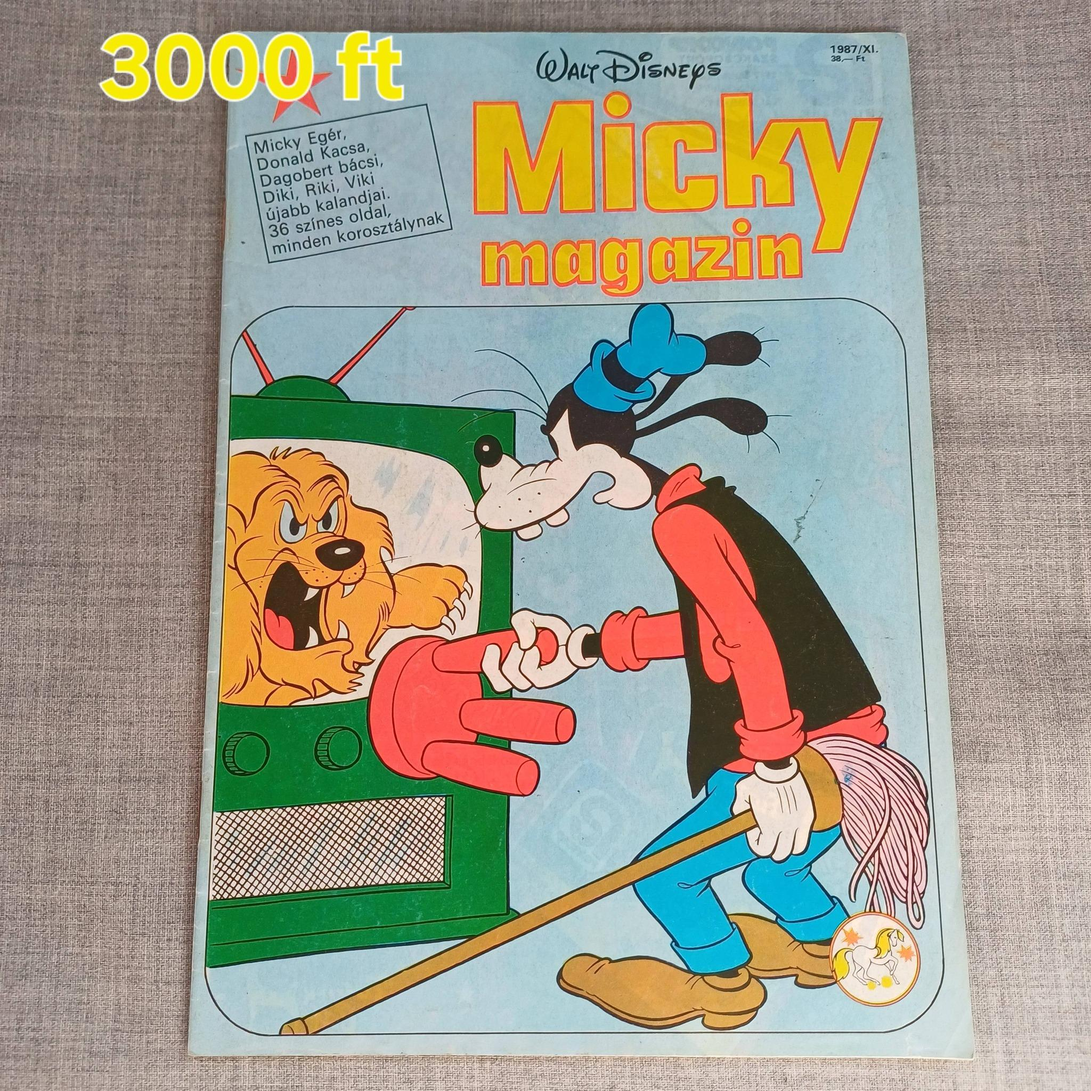comic: (191, 31, 975, 1056)
